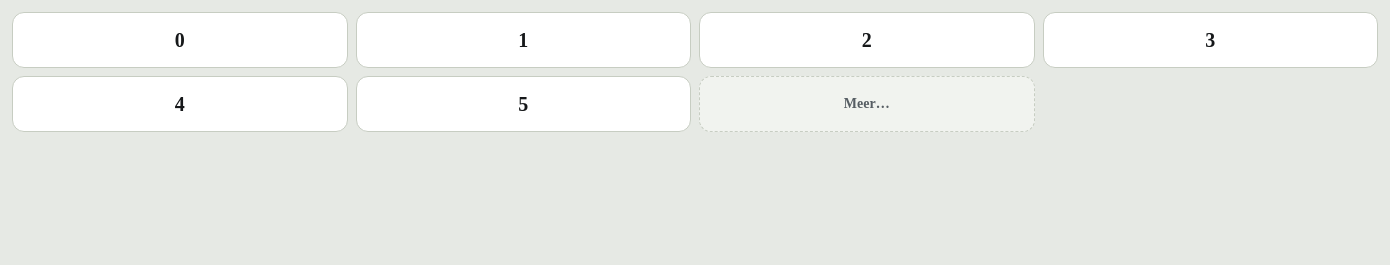
Scenario: meer invoeren › toont het bestaande invoerveld pas op verzoek
This screenshot has width=1390, height=265.
What coordinates should you click on to do the following:
click the button with aria-label "Meer invoeren"
I would click on:
 (867, 104)
Its box is [699,76,1034,132].
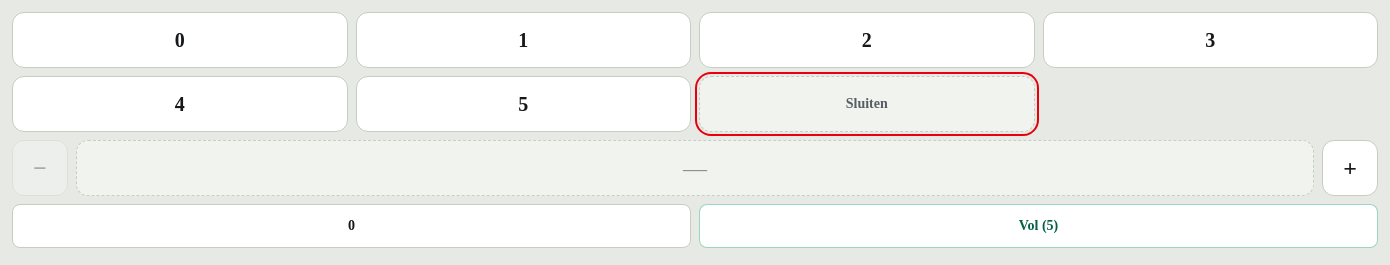
Expected: the field is shown, [76,140,1314,196]
